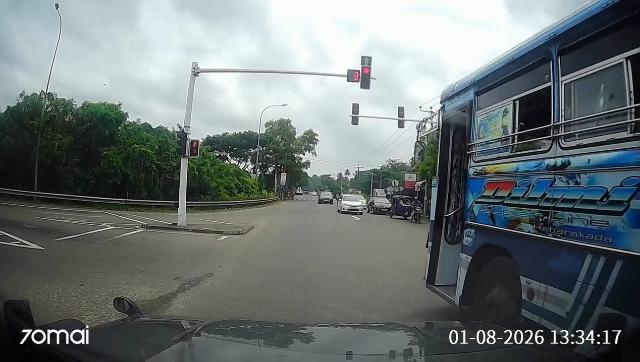traffic light red: (355, 59, 377, 94)
